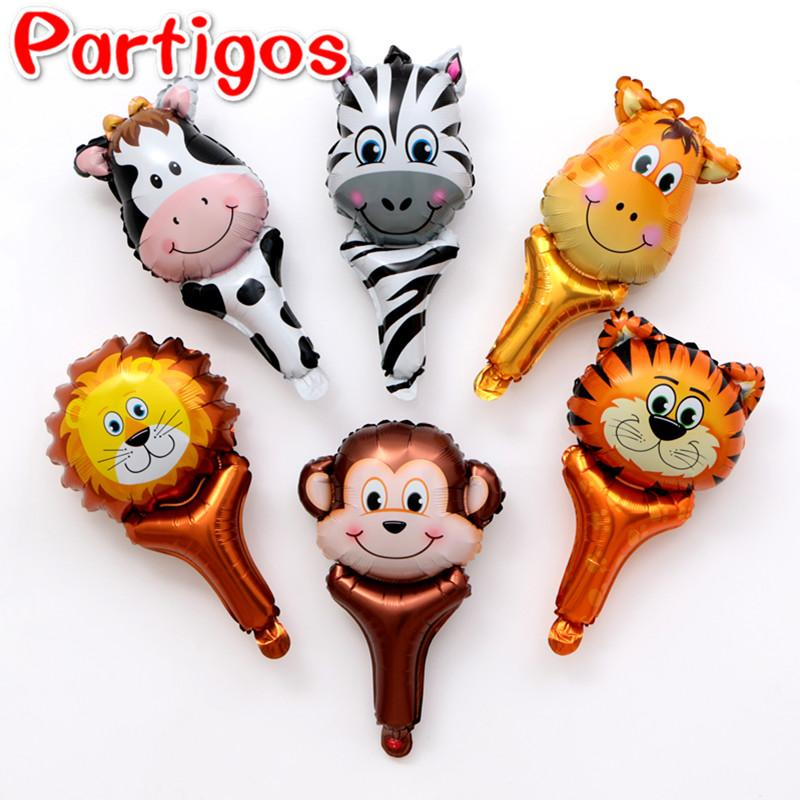Tigrew: (574, 297, 770, 521)
